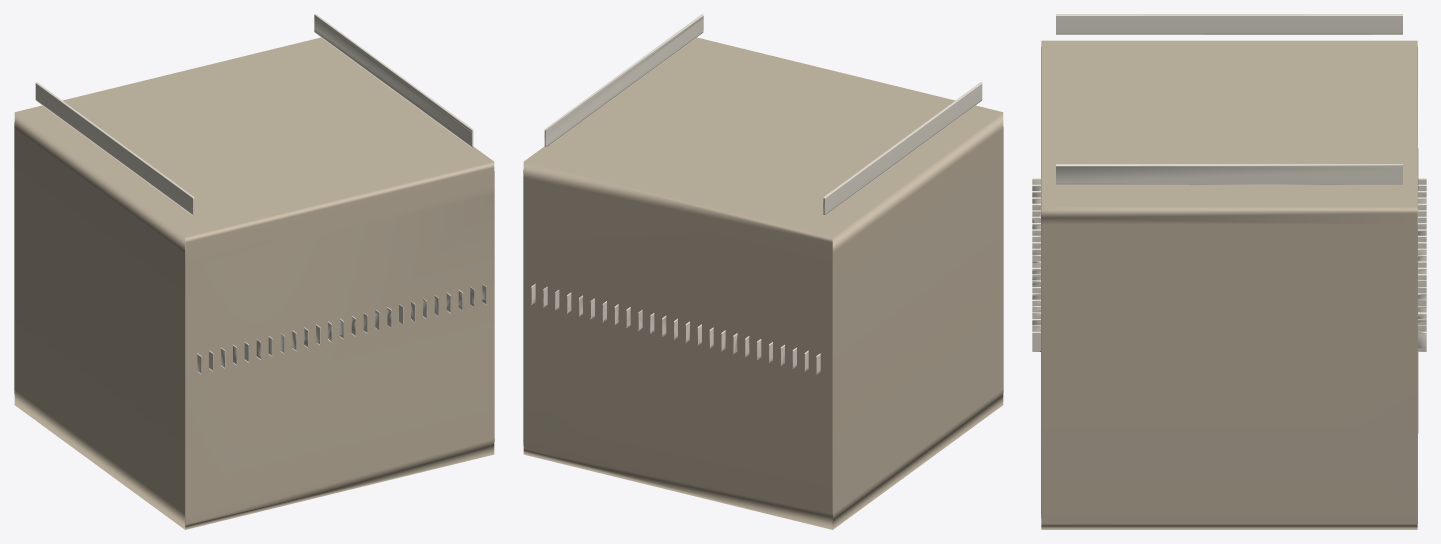
The model's file is rug-15-0.lod.glb.
3 views of the same model, side by side, from view 1: azimuth 30°, elevation 25°; view 2: azimuth 150°, elevation 25°; view 3: azimuth 270°, elevation 25° (orthographic). The views are drawn at different scales.
Parts seen in each view (by area): view 1: woven-rug, upholstery; view 2: woven-rug, upholstery; view 3: woven-rug, upholstery.
Boxes of the visible parts, x1,y1,x2,y2 form: woven-rug: (14,37,494,529); upholstery: (35,14,486,374); woven-rug: (523,37,1003,529); upholstery: (531,14,982,374); woven-rug: (1041,40,1418,529); upholstery: (1032,14,1426,351).
Bounding box in the file's own units: 1 × 1 × 1.
